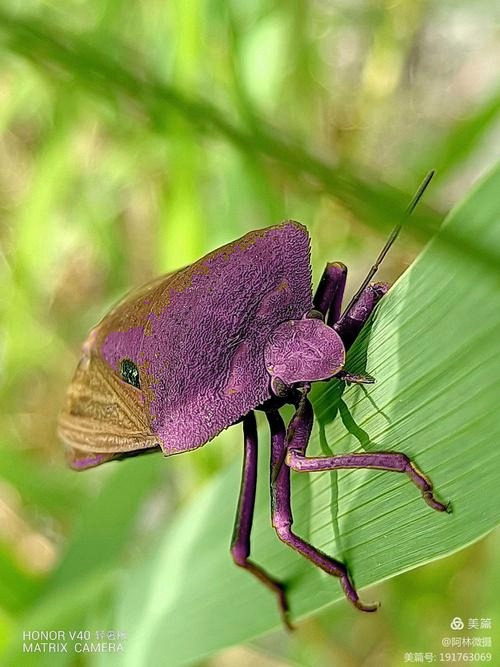Stink_Bug: (67, 217, 371, 512)
